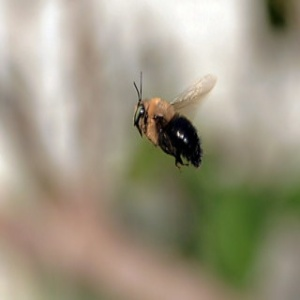bee: (128, 69, 223, 179)
